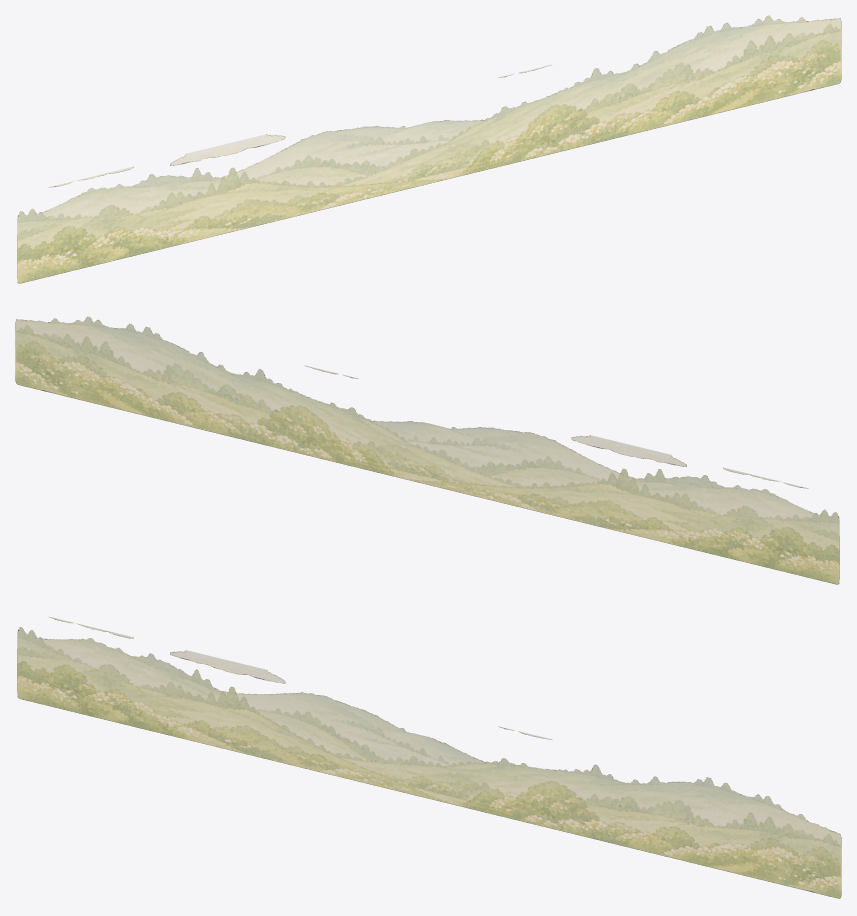
Rendered from garden_hills.glb.
3 views of the same model, one above another, from view 1: azimuth 30°, elevation 25°; view 2: azimuth 150°, elevation 25°; view 3: azimuth 330°, elevation 25° (orthographic).
Visible parts, largest first — view 1: hills / painted relief; view 2: hills / painted relief; view 3: hills / painted relief.
Part boxes in pixels (bbox=[...]): hills / painted relief: bbox=[17, 15, 841, 283]; hills / painted relief: bbox=[15, 316, 839, 584]; hills / painted relief: bbox=[17, 616, 841, 898].
Size of the model in its own units: 48 by 5.05 by 0.
Materials: 1 (1 with a texture image).
